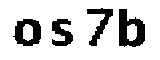7: (81, 5, 113, 49)
b: (117, 7, 148, 50)
o: (11, 18, 42, 49)
s: (49, 19, 76, 50)
